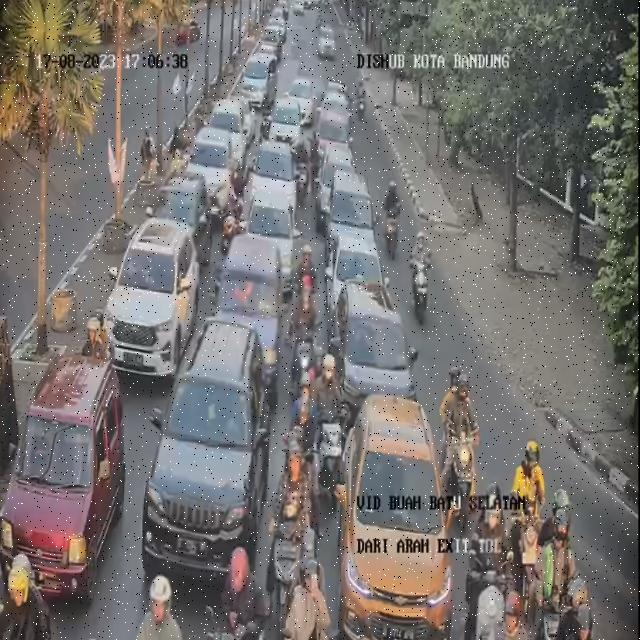cars: (149, 316, 273, 580), (6, 354, 129, 602), (345, 392, 457, 639), (109, 217, 201, 378), (215, 234, 288, 392), (333, 282, 414, 421), (244, 177, 298, 281), (330, 226, 391, 317), (158, 172, 210, 262), (326, 168, 376, 256), (249, 135, 294, 218), (190, 125, 234, 209), (318, 143, 355, 218), (210, 97, 249, 168), (242, 51, 277, 114), (316, 109, 352, 168), (274, 92, 308, 154), (321, 90, 354, 128), (290, 76, 316, 123), (314, 21, 338, 61), (326, 76, 352, 108)
motorcycle: (269, 440, 314, 631), (289, 358, 340, 526), (527, 481, 580, 640), (502, 437, 542, 610), (309, 360, 350, 527), (438, 367, 476, 526), (472, 478, 503, 633), (0, 549, 50, 640), (275, 563, 333, 640), (130, 574, 194, 640), (227, 540, 270, 638), (294, 287, 322, 387), (407, 228, 432, 320), (78, 301, 112, 364), (293, 240, 320, 318), (495, 586, 524, 640), (380, 176, 400, 252), (293, 134, 314, 206), (356, 79, 372, 121)
